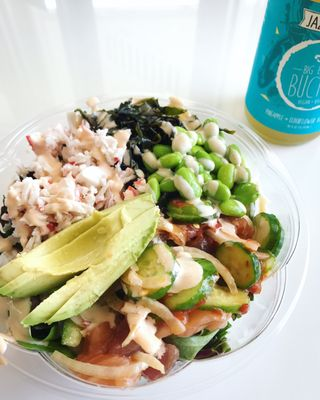pizza: (243, 0, 320, 148)
